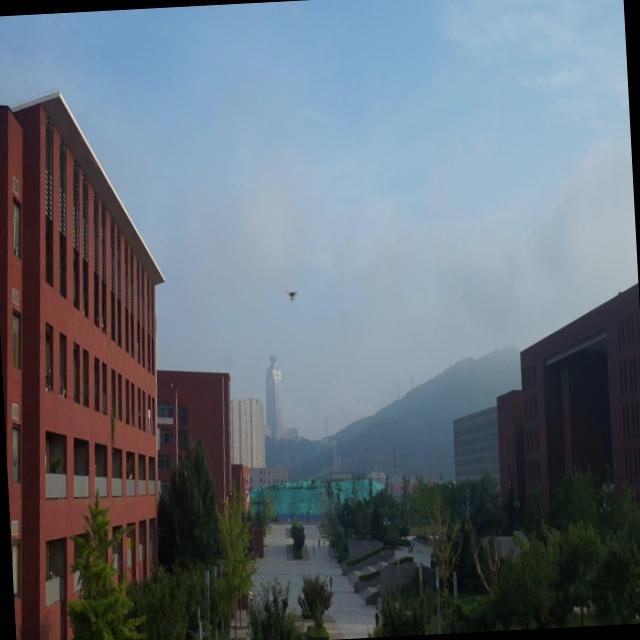drone: (284, 288, 300, 304)
